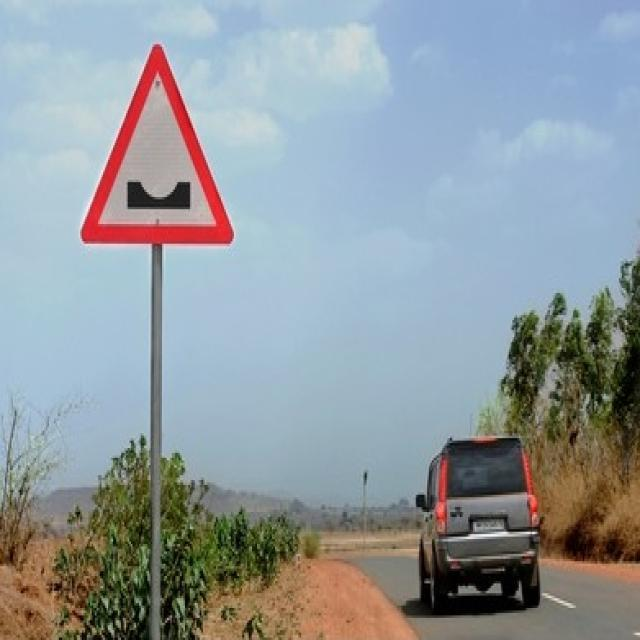dangerous dip: (76, 39, 239, 252)
